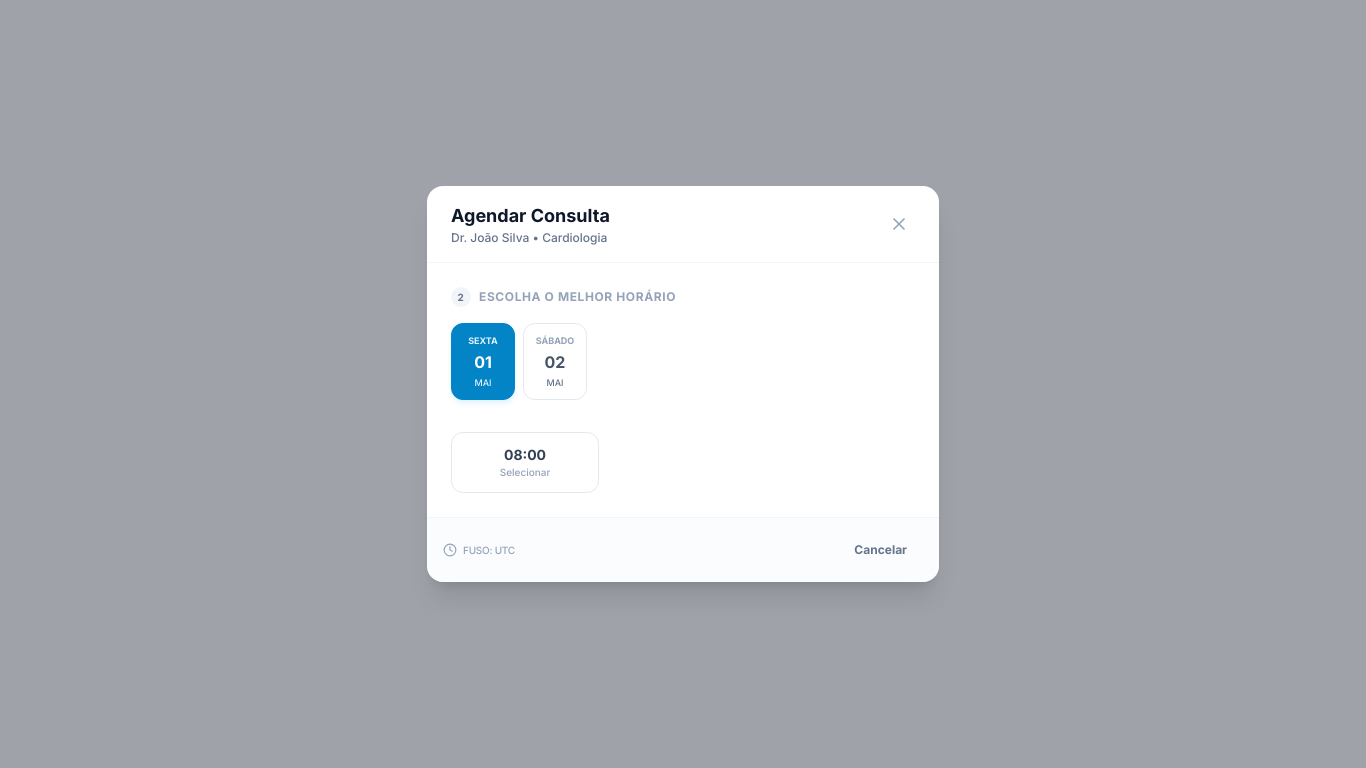
Test case: DoctorBookingModal › deve carregar e exibir horários agrupados por data
This screenshot has width=1366, height=768.
Expected: the text "01" is shown, [474,350,492,374]
Expected: the text "08:00" is shown, [504,445,546,465]
Clica no segundo dia
Click the text "02" at {"x": 555, "y": 362}, box [545,350,566,374]
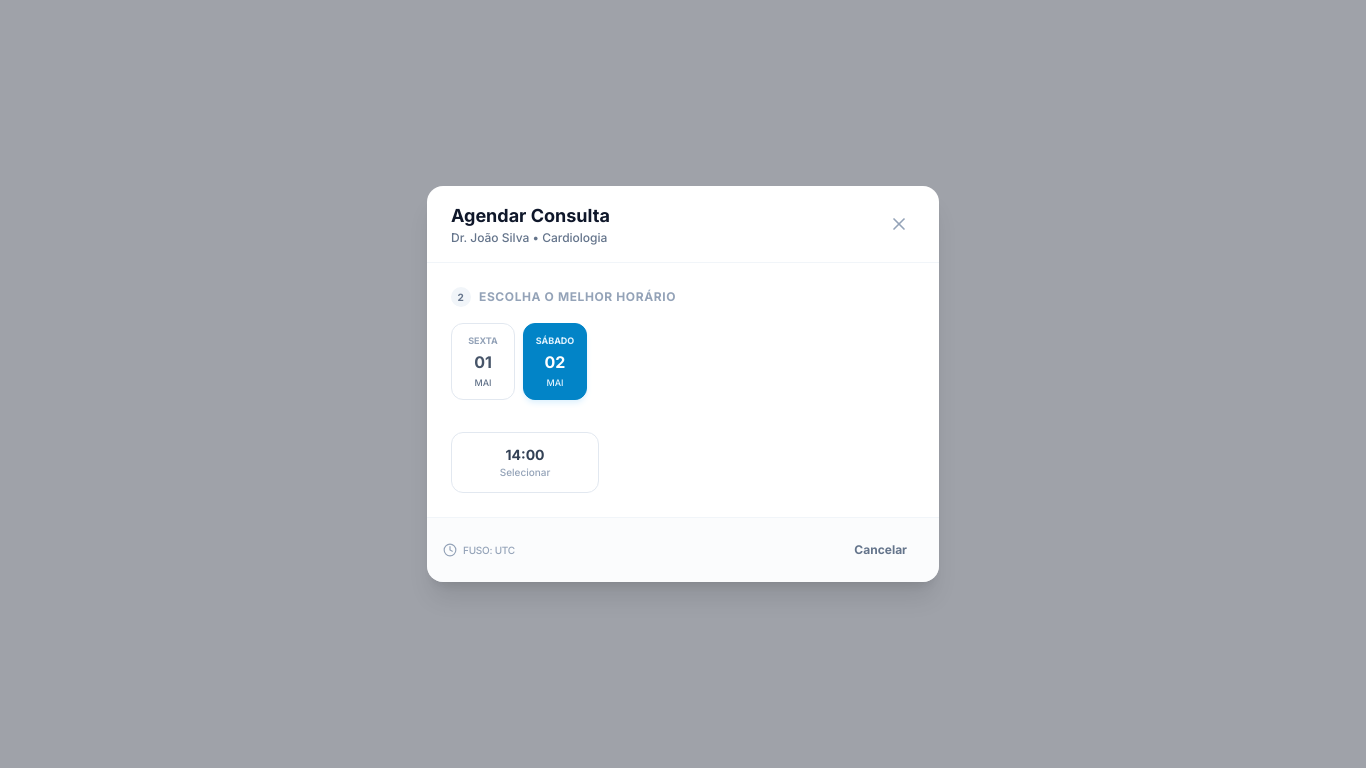
Result: the text "14:00" is shown at [506,445,545,465]
